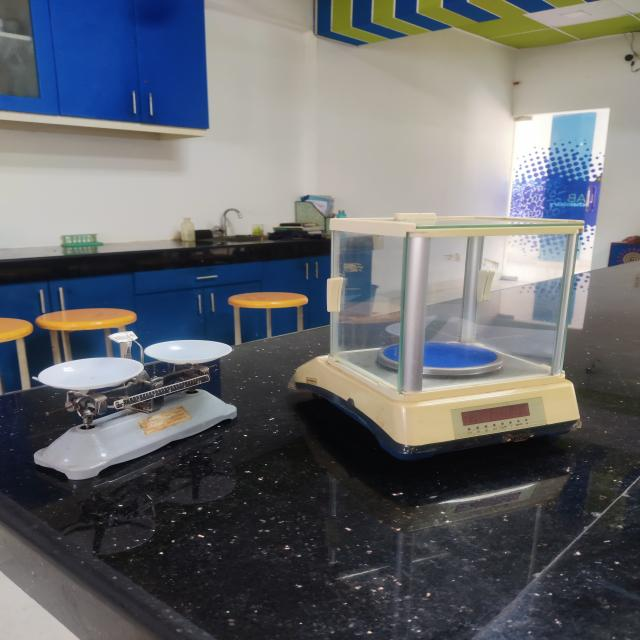Mechanical_Balance_Scale: (17, 323, 246, 488)
Precision_Weight_Scale: (276, 199, 602, 455)
